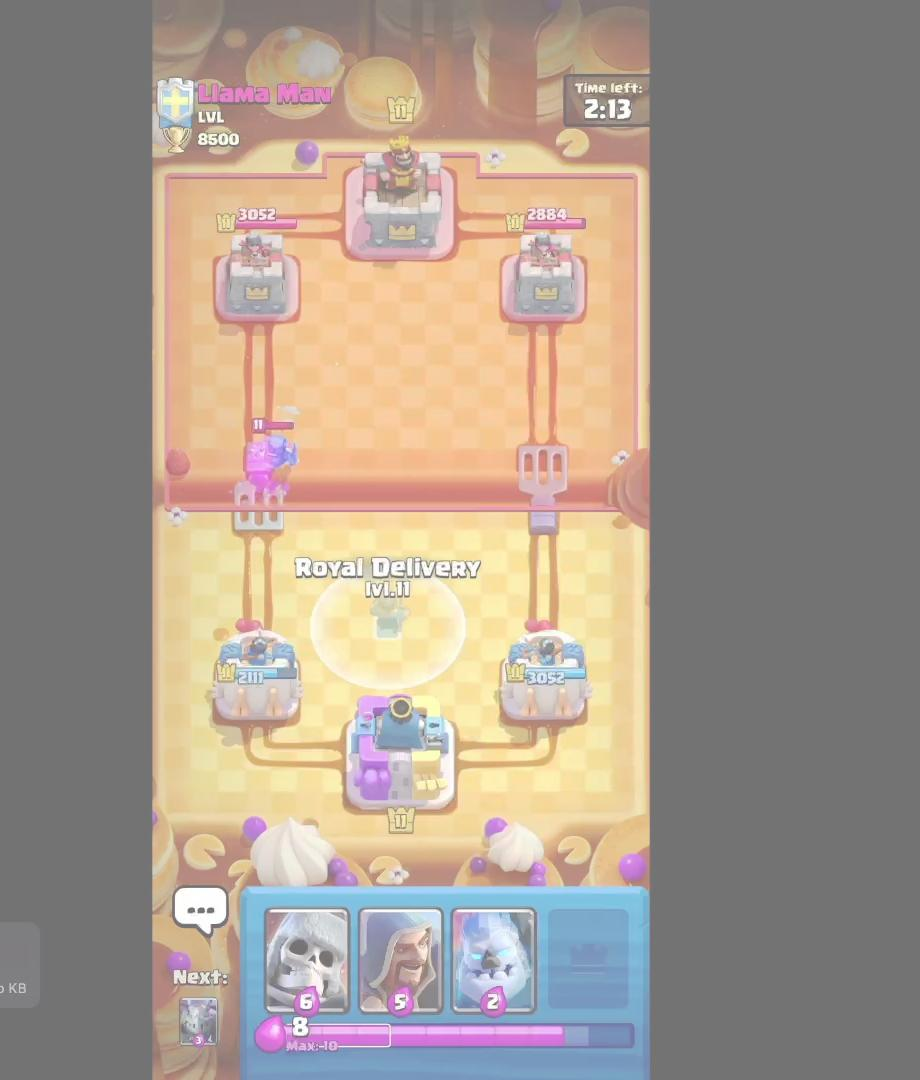Mini Pekka: (242, 409, 309, 495)
